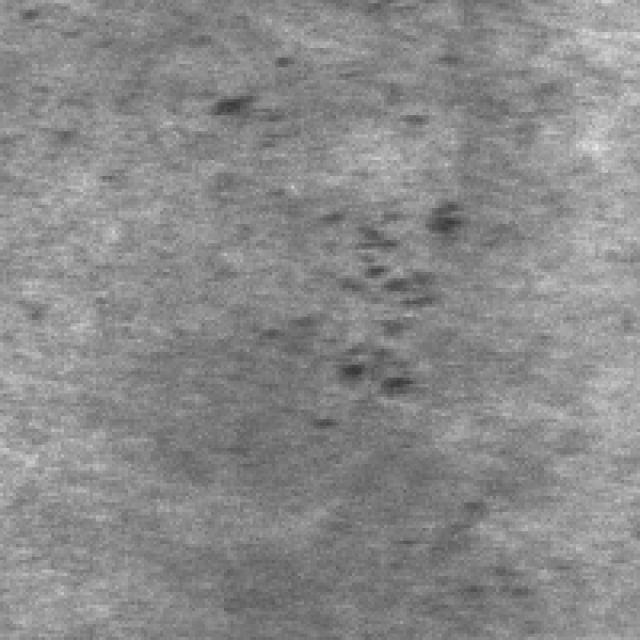rolled-in_scale: (285, 164, 461, 438)
